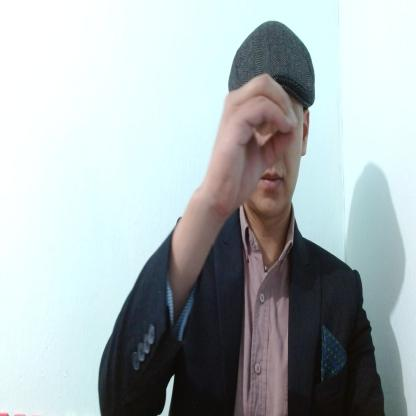O: (208, 73, 301, 215)
